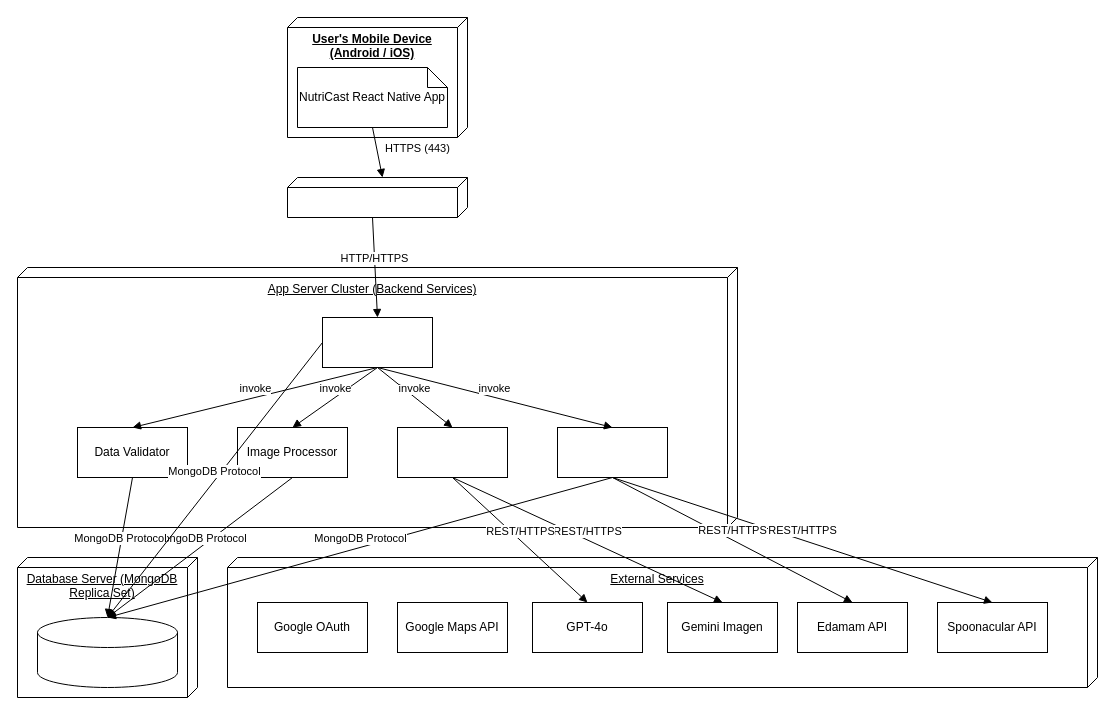
Some shapes in this 1115 by 715 pixel diagram are drawn without their labels. The centre of each missing label's shape, as x and y in pixels:
"<<database>> MongoDB" belongs at pixel 107 652.
"AI Integration Service" belongs at pixel 452 452.
"API Gateway" belongs at pixel 377 342.
"Load Balancer" belongs at pixel 377 197.
"Nutrition Engine" belongs at pixel 612 452.
